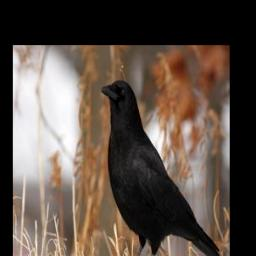Crow: (98, 75, 225, 256)
